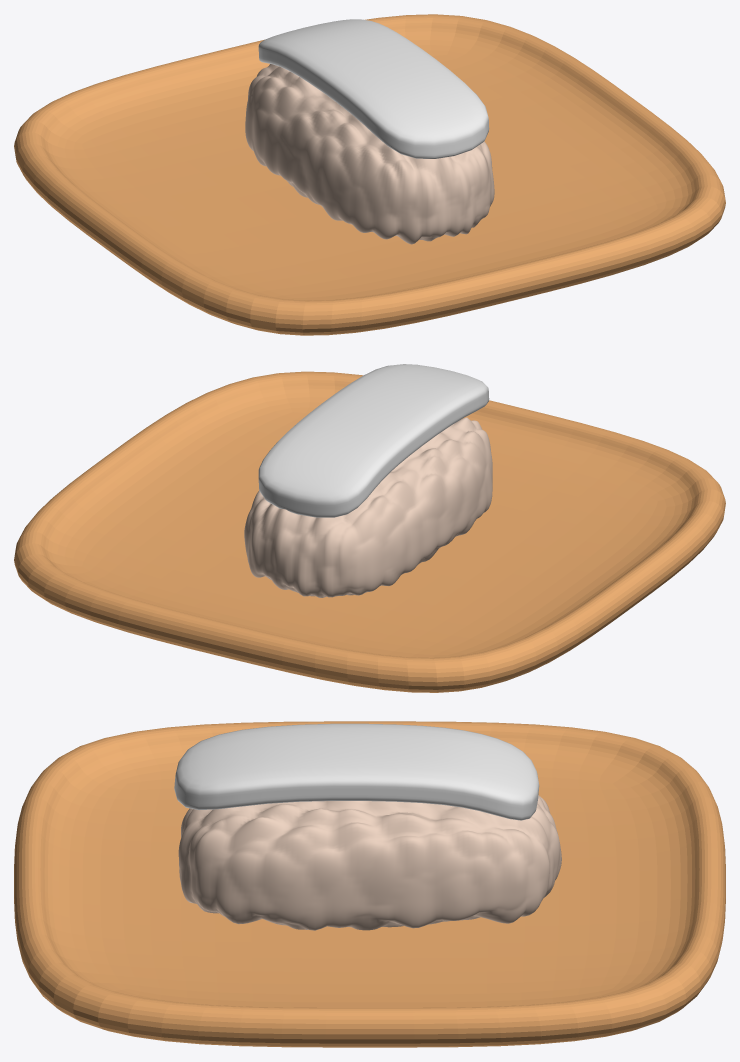
The model's file is sushi.fbx.
3 views of the same model, one above another, from view 1: azimuth 30°, elevation 25°; view 2: azimuth 150°, elevation 25°; view 3: azimuth 270°, elevation 25° (orthographic). The views are drawn at different scales.
Visible parts, largest first — view 1: Plate, Rice, Salmon; view 2: Plate, Rice, Salmon; view 3: Plate, Rice, Salmon.
Part boxes in pixels (bbox=[...]): Plate: bbox=[14, 14, 725, 335]; Rice: bbox=[245, 64, 494, 244]; Salmon: bbox=[258, 19, 489, 158]; Plate: bbox=[14, 371, 725, 692]; Rice: bbox=[244, 417, 492, 597]; Salmon: bbox=[258, 364, 489, 517]; Plate: bbox=[14, 721, 725, 1047]; Rice: bbox=[178, 795, 561, 930]; Salmon: bbox=[174, 723, 539, 820].
Bounding box in the file's own units: 198 × 55.01 × 198.
